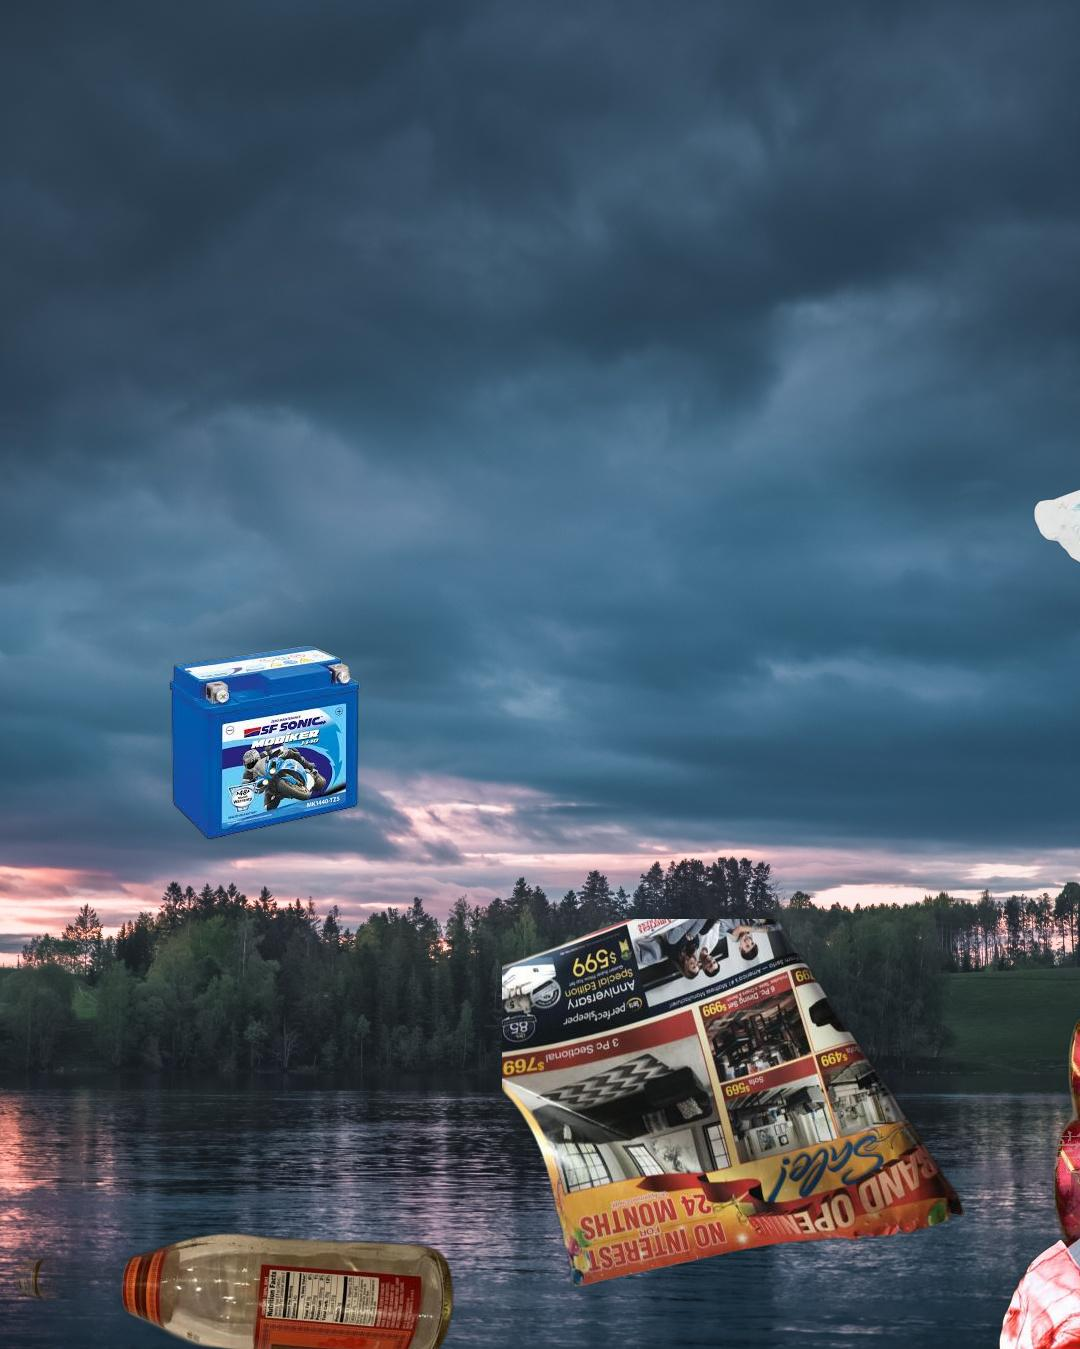battery: (949, 908, 1080, 1349), (168, 643, 363, 842)
glass: (9, 1224, 458, 1349)
paper: (503, 919, 968, 1289)
plastic-bag: (996, 1181, 1080, 1349)
trash: (1032, 384, 1080, 578), (1072, 801, 1080, 897)
